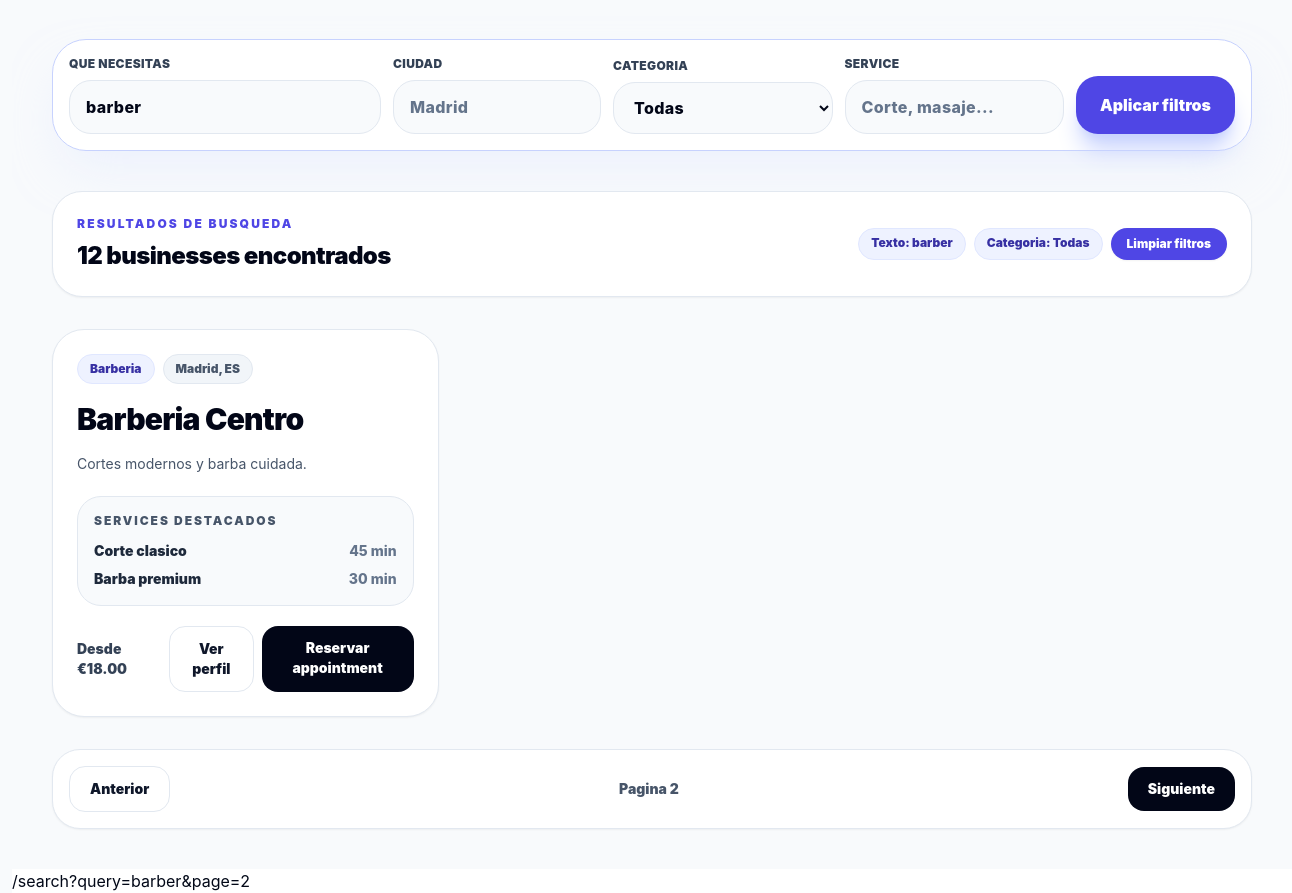
marketplace search page › updates the page query param with next pagination
(page scrolled)
Expected: the heading "Barberia Centro" is shown, [77,401,303,437]
Click the link "Siguiente" at [1181, 788], box [1128,766,1235,810]
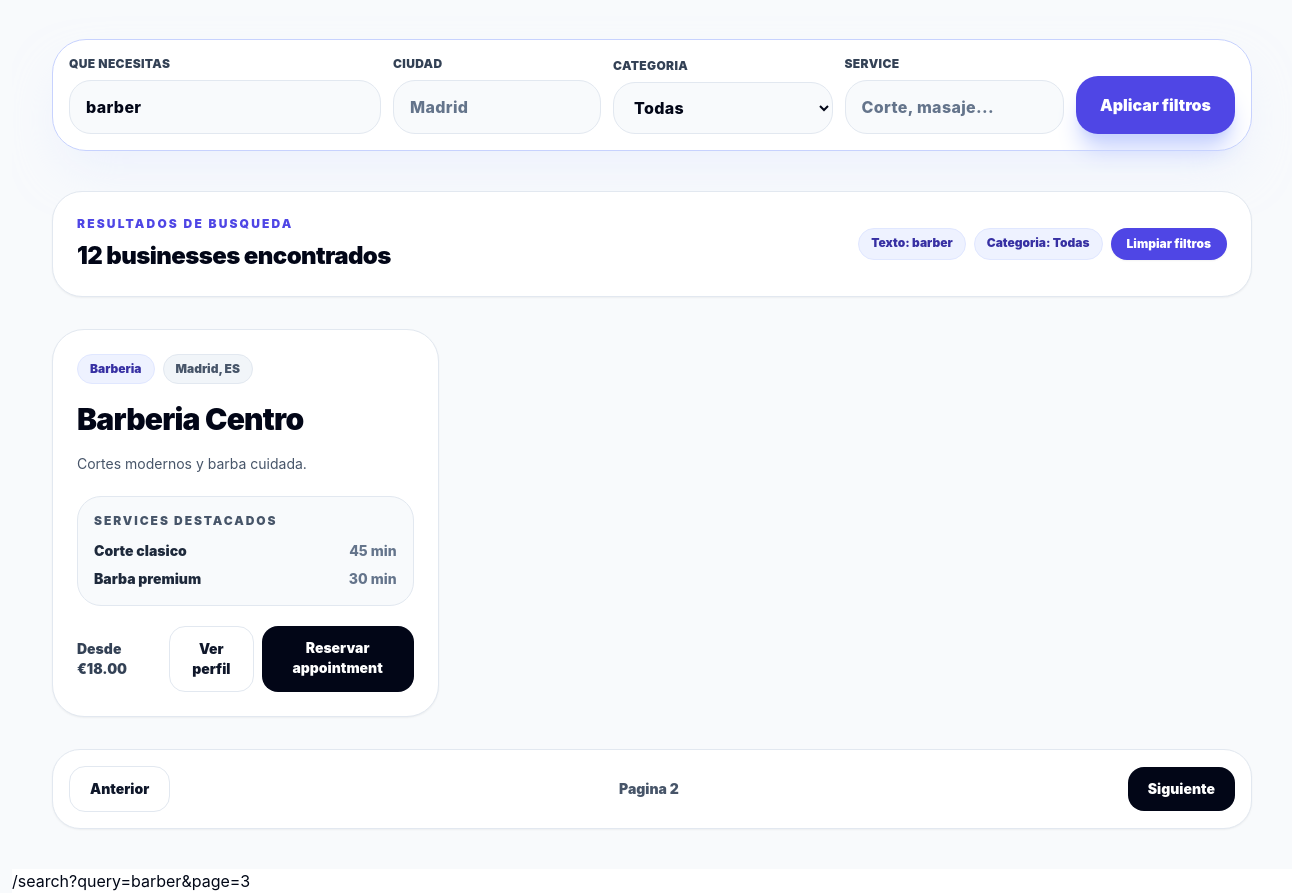
Now the text with test id "location" reads "/search?query=barber&page=3", box [12,870,250,890]
